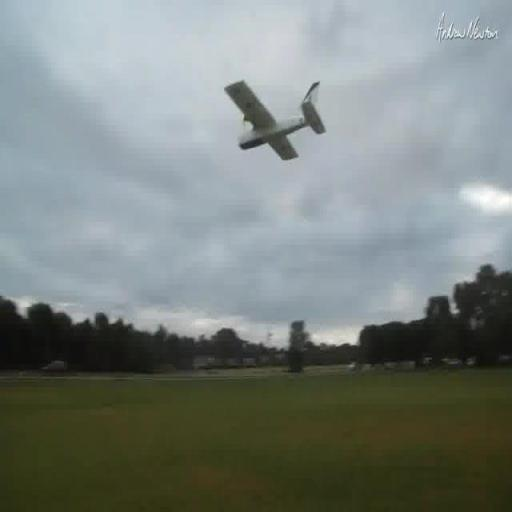uav: (222, 73, 332, 181)
